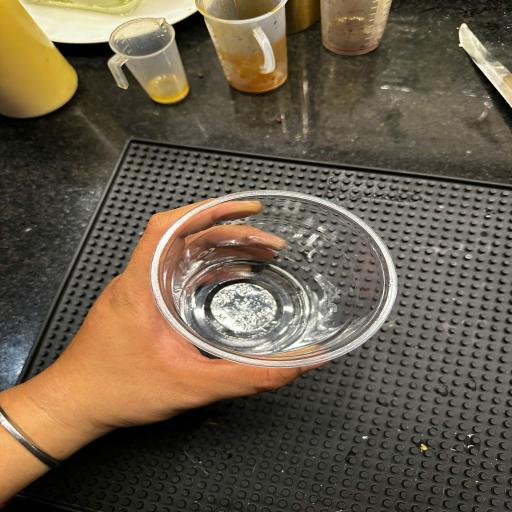ly_nhua: (117, 181, 460, 382)
